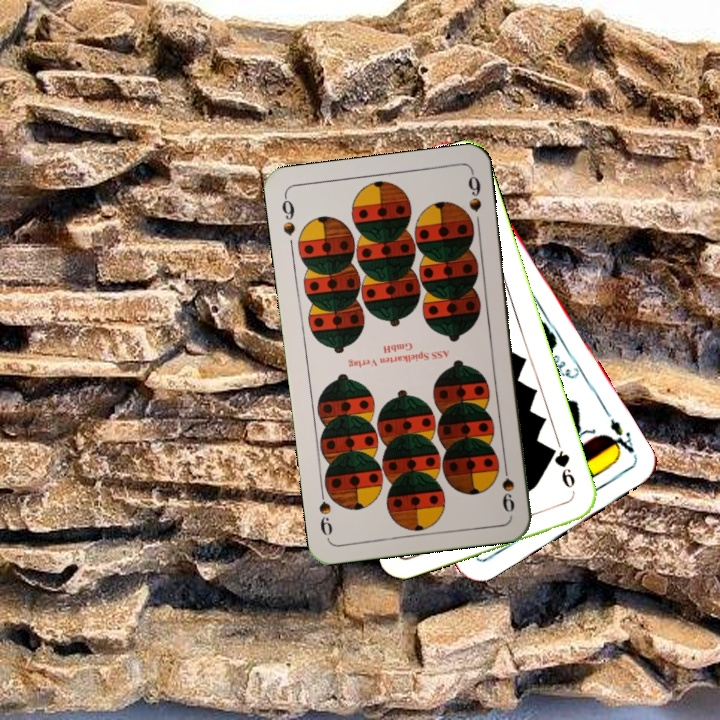EA: (601, 414, 637, 459)
G9: (546, 443, 578, 491)
S9: (498, 456, 517, 515), (278, 192, 298, 239)
